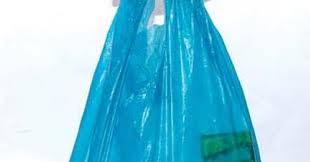Plastic bag: (46, 2, 265, 162)
